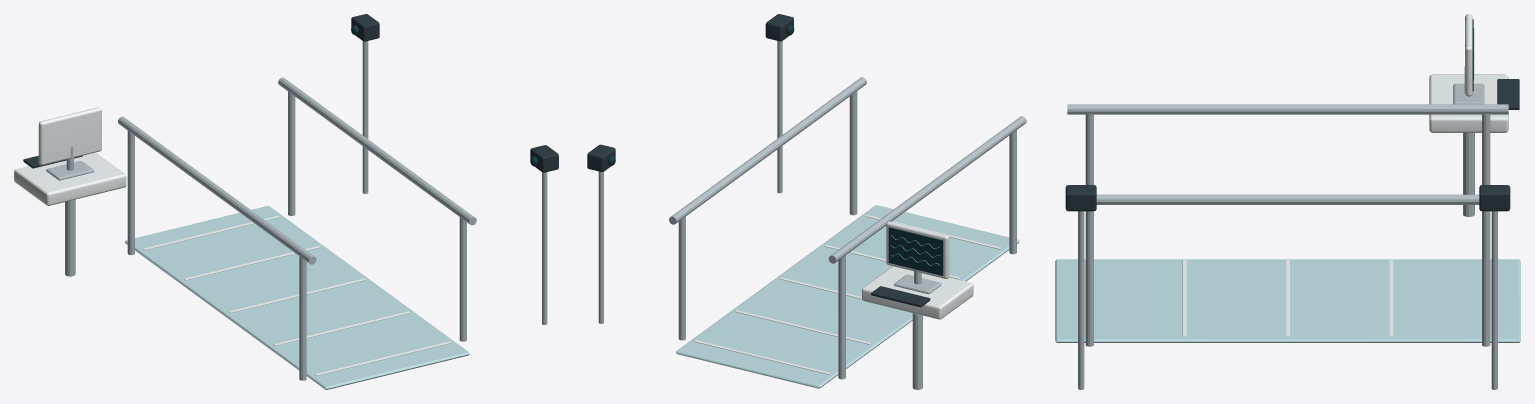
Rendered from gait.glb.
The picture shows the model from 3 angles, left to right: view 1: azimuth 30°, elevation 25°; view 2: azimuth 150°, elevation 25°; view 3: azimuth 270°, elevation 25°; orthographic projection. The views are drawn at different scales.
Visible parts, largest first — view 1: Gait measurement track, Parallel rail support, Track distance stripe, Original optical camera; view 2: Gait measurement track, Parallel rail support, Track distance stripe, Glass camera lens.001, Original optical camera; view 3: Gait measurement track, Parallel rail support, Track distance stripe, Original optical camera.
Boxes of the visible parts, bbox=[...] form: Gait measurement track: bbox=[125, 206, 469, 389]; Parallel rail support: bbox=[46, 41, 547, 380]; Track distance stripe: bbox=[14, 107, 451, 375]; Original optical camera: bbox=[23, 14, 558, 172]; Gait measurement track: bbox=[676, 205, 1019, 388]; Parallel rail support: bbox=[598, 41, 1026, 389]; Track distance stripe: bbox=[694, 215, 1001, 374]; Glass camera lens.001: bbox=[608, 25, 943, 275]; Original optical camera: bbox=[587, 14, 930, 307]; Gait measurement track: bbox=[1055, 259, 1520, 342]; Parallel rail support: bbox=[1067, 66, 1508, 389]; Track distance stripe: bbox=[1182, 14, 1508, 336]; Original optical camera: bbox=[1065, 79, 1519, 211].
Bounding box in the file's own units: 2.75 × 1.3 × 2.7.
